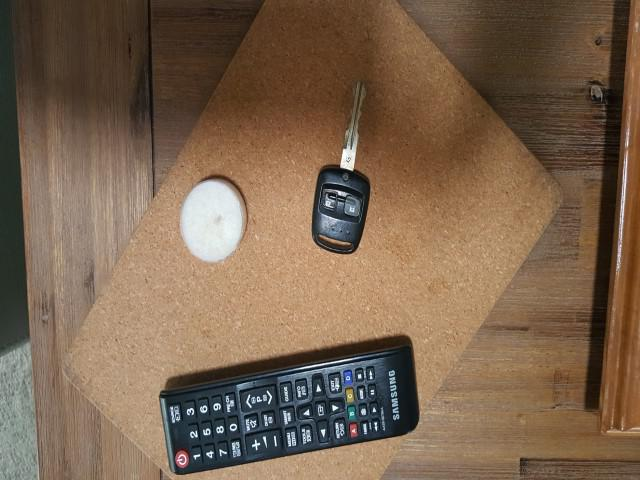key: (310, 85, 382, 382)
